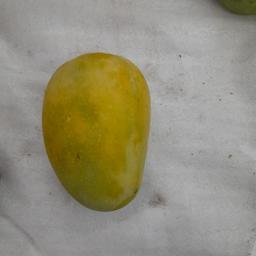Mango Fresh: (33, 0, 256, 245)
